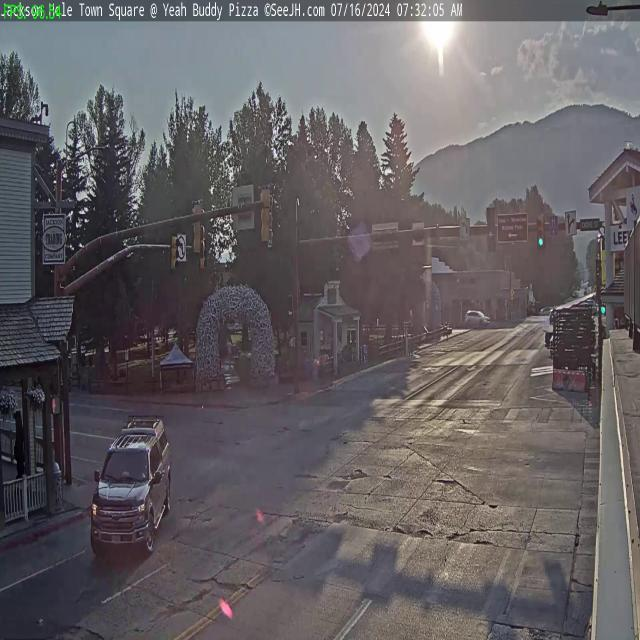suv: (88, 409, 174, 556), (466, 307, 488, 331)
traffic light: (190, 200, 204, 256), (260, 183, 272, 244), (170, 233, 180, 278), (487, 207, 497, 252), (537, 214, 545, 248)
